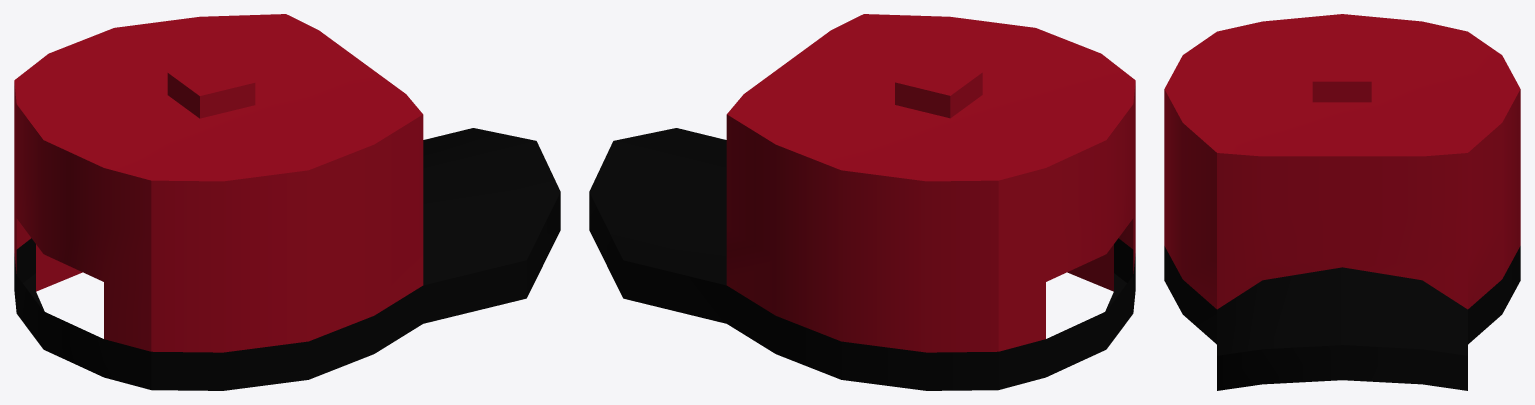
The model's file is Baseball.fbx.
3 views of the same model, side by side, from view 1: azimuth 30°, elevation 25°; view 2: azimuth 150°, elevation 25°; view 3: azimuth 270°, elevation 25° (orthographic). The views are drawn at different scales.
Parts seen in each view (by area): view 1: polySurface9; view 2: polySurface9; view 3: polySurface9.
Boxes of the visible parts, bbox=[...] form: polySurface9: bbox=[14, 14, 560, 390]; polySurface9: bbox=[589, 14, 1135, 390]; polySurface9: bbox=[1164, 14, 1520, 390].
Bounding box in the file's own units: 141 × 63.21 × 96.46.
